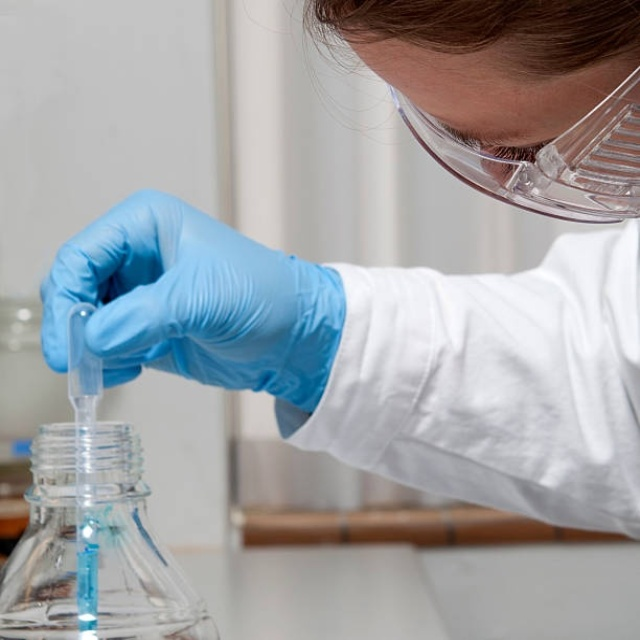Gafas: (383, 30, 637, 225)
Guantes: (36, 186, 343, 411)
